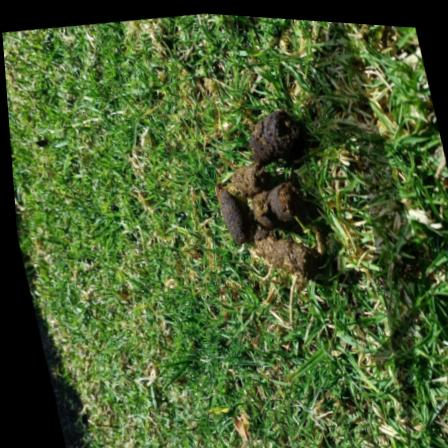dog-poop: (194, 106, 320, 282)
